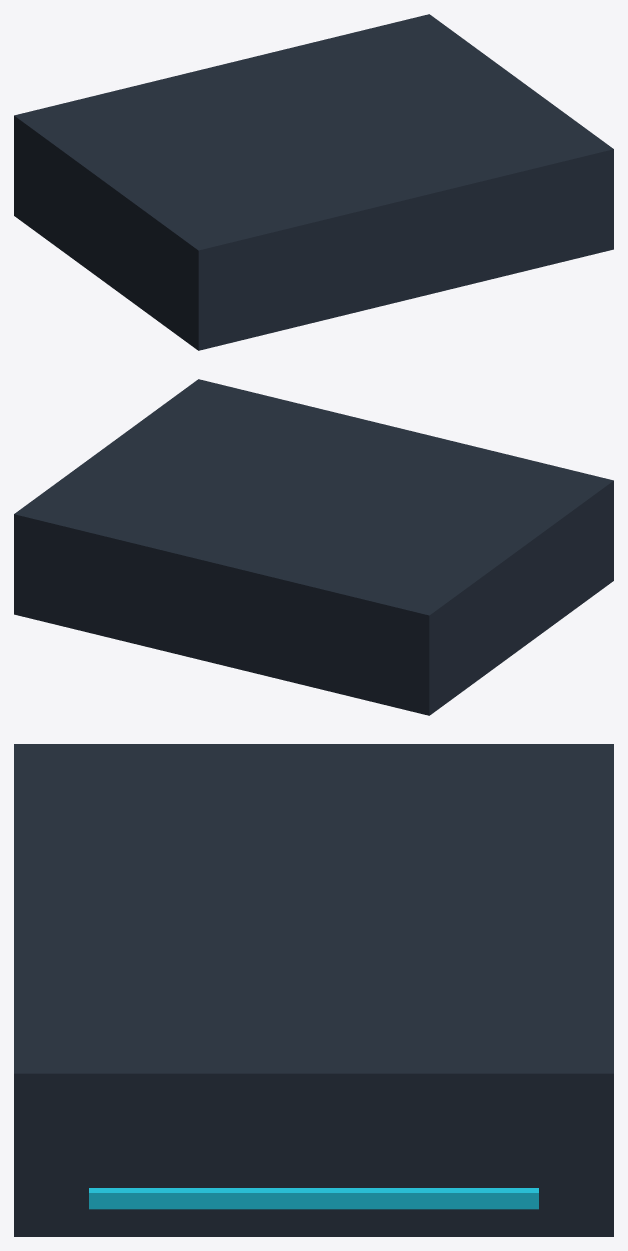
The picture shows the model from 3 angles, top to bottom: view 1: azimuth 30°, elevation 25°; view 2: azimuth 150°, elevation 25°; view 3: azimuth 270°, elevation 25°; orthographic projection. The views are drawn at different scales.
Visible parts, largest first — view 1: mesh; view 2: mesh; view 3: mesh.
Part boxes in pixels (x1,y1,x2,y2): mesh: (14, 14, 613, 350); mesh: (14, 379, 613, 715); mesh: (14, 744, 613, 1236).
Size of the model in its own units: 0.528 by 0.4 by 0.12.
